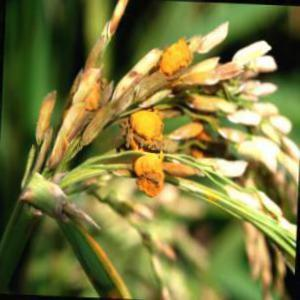False Smut: (122, 108, 196, 146), (67, 75, 105, 132), (161, 41, 194, 85), (137, 154, 164, 202), (97, 13, 130, 45), (41, 95, 54, 142)
